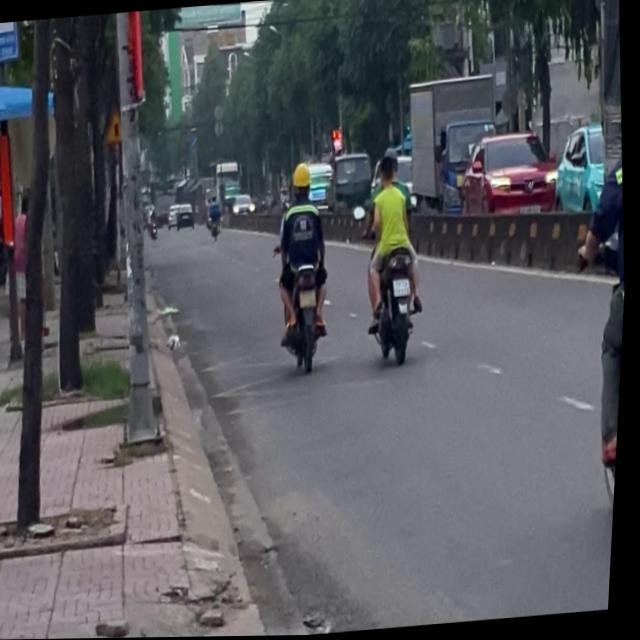helmet: (290, 158, 315, 200)
licenseplate: (355, 144, 437, 365), (267, 158, 344, 374)
motorcyclist: (378, 153, 400, 196)
nohelmet: (301, 287, 319, 306), (396, 276, 414, 295)
